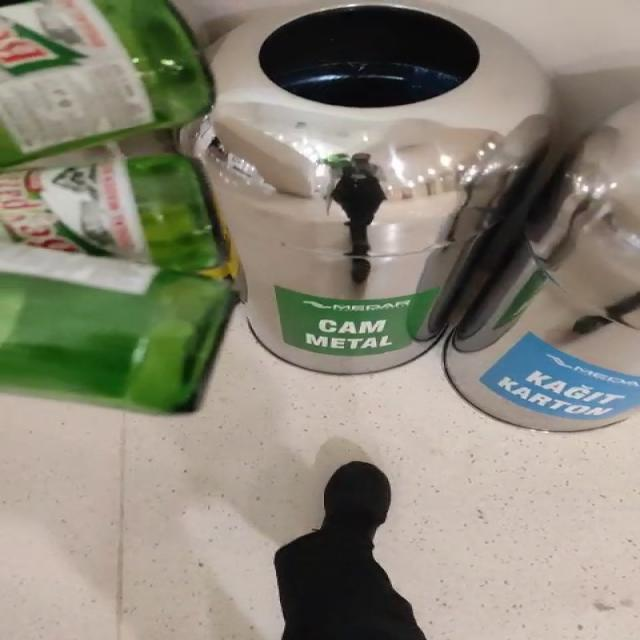Other: (0, 449, 302, 472)
